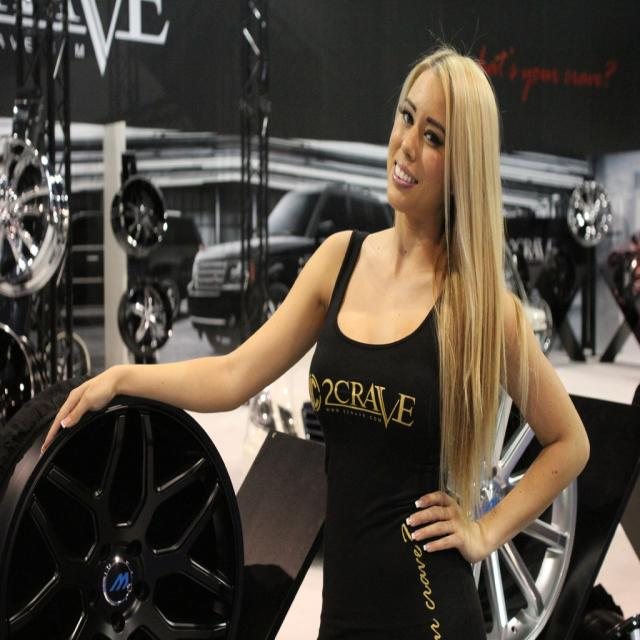car: (185, 185, 390, 351)
